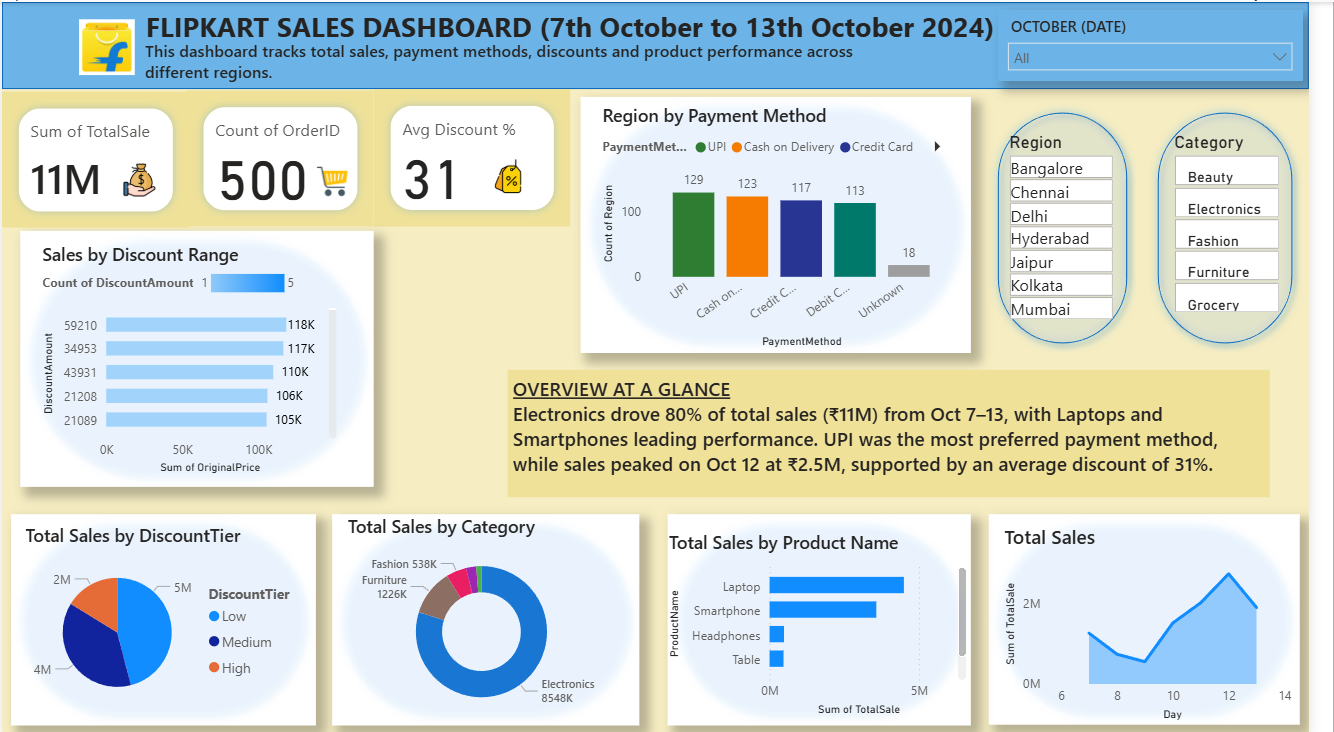

The page's visual inventory and layout, read from the dashboard file:
{"tool":"powerbi","page":{"name":"Page 2","canvas":[1280,720],"ordinal":1},"visuals":[{"type":"shape","box":[0,0,1279.7,85.2],"z":0},{"type":"textbox","box":[119.7,0,873.3,63.7],"z":1000},{"type":"shape","box":[9,501,298.3,206.6],"z":2000},{"type":"shape","box":[966.2,501.6,304.3,206.2],"z":3000},{"type":"lineChart","title":"Total Sales ","fields":{"Category":["flipkart_bbd_sales_medium.Date.Variation.Date Hierarchy.Day"],"Y":["Sum(flipkart_bbd_sales_medium.TotalSale)"]},"box":[976.4,510.5,294.1,197.3],"z":4000},{"type":"shape","box":[322.8,501,300.9,206.6],"z":5000},{"type":"cardVisual","fields":{"Data":["flipkart_bbd_sales_medium.Avg Discount %"]},"box":[364.1,85.2,192.4,134.3],"z":6000},{"type":"shape","box":[652.1,501,297,206.6],"z":7000},{"type":"shape","box":[965.9,99.4,144.6,244.1],"z":8000},{"type":"clusteredBarChart","title":"Total Sales by Product Name","fields":{"Category":["flipkart_bbd_sales_medium.ProductName"],"Y":["Sum(flipkart_bbd_sales_medium.TotalSale)"]},"box":[648.2,516.5,300.9,185.9],"z":9000},{"type":"shape","box":[1123.4,99.4,149.8,244.1],"z":10000},{"type":"advancedSlicerVisual","fields":{"Values":["flipkart_bbd_sales_medium.Category"]},"box":[1142.8,127.8,112.3,185.9],"z":11000},{"type":"shape","box":[566.9,93,382.2,250.5],"z":12000},{"type":"shape","box":[18.1,224.7,346.1,250.5],"z":13000},{"type":"listSlicer","fields":{"Values":["flipkart_bbd_sales_medium.Region"]},"box":[981.4,127.8,111.1,215.6],"z":14000},{"type":"donutChart","title":" Total Sales by Category","fields":{"Category":["flipkart_bbd_sales_medium.Category"],"Y":["Sum(flipkart_bbd_sales_medium.TotalSale)"]},"box":[333.5,501.6,271.2,206.2],"z":15000},{"type":"slicer","fields":{"Values":["flipkart_bbd_sales_medium.Date"]},"box":[974.9,7.7,298.3,69.7],"z":16000},{"type":"columnChart","title":"Region by Payment Method","fields":{"Category":["flipkart_bbd_sales_medium.PaymentMethod"],"Series":["flipkart_bbd_sales_medium.PaymentMethod"],"Y":["CountNonNull(flipkart_bbd_sales_medium.Region)"]},"box":[583.7,99.4,352.5,244.1],"z":17000},{"type":"pieChart","title":"Total Sales by DiscountTier","fields":{"Category":["flipkart_bbd_sales_medium.DiscountTier"],"Y":["Sum(flipkart_bbd_sales_medium.TotalSale)"]},"box":[18.1,510.1,280.2,189.8],"z":18000},{"type":"barChart","title":"Sales by Discount Range","fields":{"Category":["flipkart_bbd_sales_medium.DiscountAmount"],"Y":["Sum(flipkart_bbd_sales_medium.OriginalPrice)"]},"box":[34.9,235,298.3,231.1],"z":19000},{"type":"image","box":[70,0,64.9,89.1],"z":20000},{"type":"textbox","box":[134.9,31.8,754.9,54.7],"z":21000},{"type":"cardVisual","fields":{"Data":["Sum(flipkart_bbd_sales_medium.TotalSale)"]},"box":[0,87.8,183.4,133],"z":22000},{"type":"cardVisual","fields":{"Data":["CountNonNull(flipkart_bbd_sales_medium.OrderID)"]},"box":[180.8,86.5,183.4,133],"z":23000},{"type":"image","box":[111.1,152.4,47.8,42.6],"z":24000},{"type":"image","box":[303.5,155,40,40],"z":25000},{"type":"image","box":[473.6,146.4,43.3,48.4],"z":26000},{"type":"textbox","box":[495.2,360.3,746,124.8],"z":26001}]}

Visuals, with their boxes in screenshot pixels (x1, y1, x2, y2), scaled from the page's 1280x720 canvas onto the 1334x732 screenshot:
shape: 0,0,1333,87
textbox: 125,0,1035,65
shape: 9,509,320,719
shape: 1007,510,1324,720
"Total Sales " lineChart: 1018,519,1324,720
shape: 336,509,650,719
cardVisual - flipkart_bbd_sales_medium.Avg Discount %: 379,87,580,223
shape: 680,509,989,719
shape: 1007,101,1157,349
"Total Sales by Product Name" clusteredBarChart: 676,525,989,714
shape: 1171,101,1327,349
advancedSlicerVisual - flipkart_bbd_sales_medium.Category: 1191,130,1308,319
shape: 591,95,989,349
shape: 19,228,380,483
listSlicer - flipkart_bbd_sales_medium.Region: 1023,130,1139,349
" Total Sales by Category" donutChart: 348,510,630,720
slicer - flipkart_bbd_sales_medium.Date: 1016,8,1327,79
"Region by Payment Method" columnChart: 608,101,976,349
"Total Sales by DiscountTier" pieChart: 19,519,311,712
"Sales by Discount Range" barChart: 36,239,347,474
image: 73,0,141,91
textbox: 141,32,927,88
cardVisual - Sum(flipkart_bbd_sales_medium.TotalSale): 0,89,191,224
cardVisual - CountNonNull(flipkart_bbd_sales_medium.OrderID): 188,88,380,223
image: 116,155,166,198
image: 316,158,358,198
image: 494,149,539,198
textbox: 516,366,1294,493
